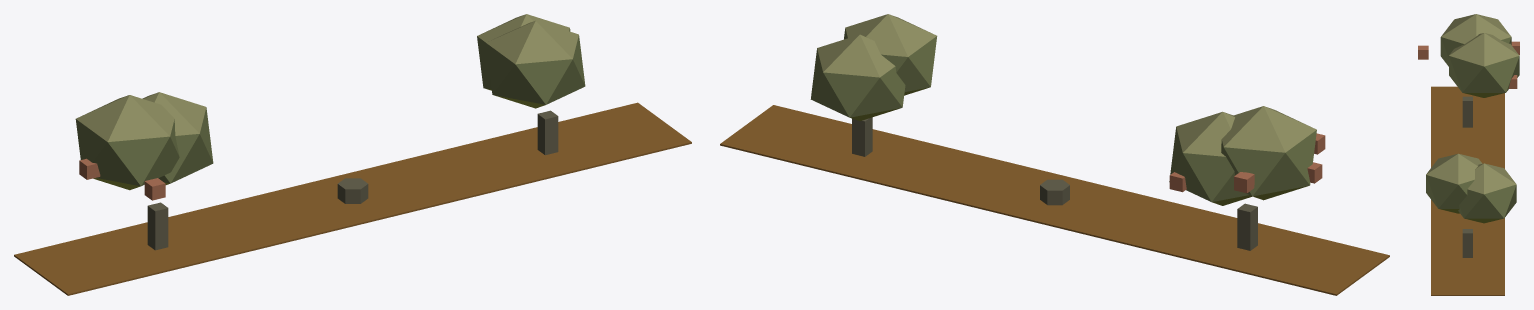
Rendered from SM_Naranjos_v4_Calva_LOD1.fbx.
The picture shows the model from 3 angles, left to right: view 1: azimuth 30°, elevation 25°; view 2: azimuth 150°, elevation 25°; view 3: azimuth 270°, elevation 25°; orthographic projection. The views are drawn at different scales.
Visible parts, largest first — view 1: SM_viveres_nules_v4_LOD1; view 2: SM_viveres_nules_v4_LOD1; view 3: SM_viveres_nules_v4_LOD1.
Part boxes in pixels (left/top/right/bottom): SM_viveres_nules_v4_LOD1: left=14, top=14, right=691, bottom=295; SM_viveres_nules_v4_LOD1: left=720, top=14, right=1389, bottom=295; SM_viveres_nules_v4_LOD1: left=1418, top=14, right=1519, bottom=295.
Size of the model in its own units: 16 by 3.77 by 3.3.
